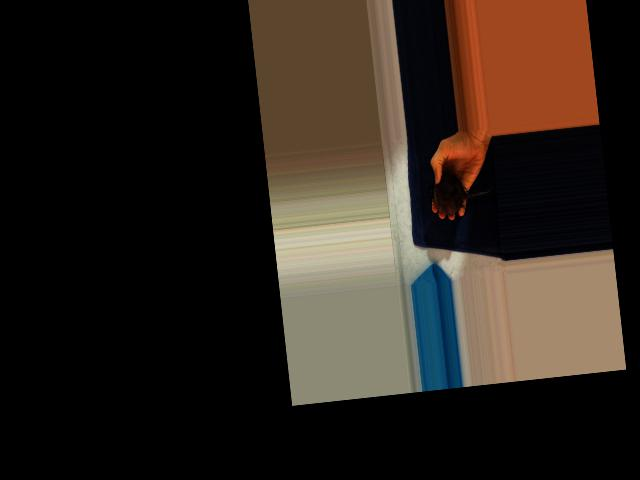beet: (426, 169, 494, 217)
